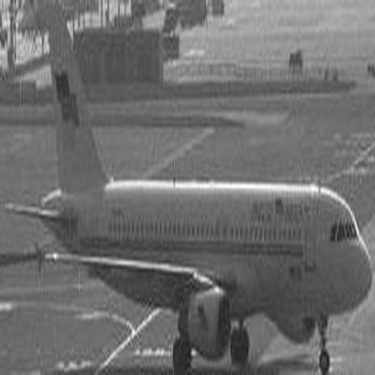airplane: (8, 7, 367, 369)
